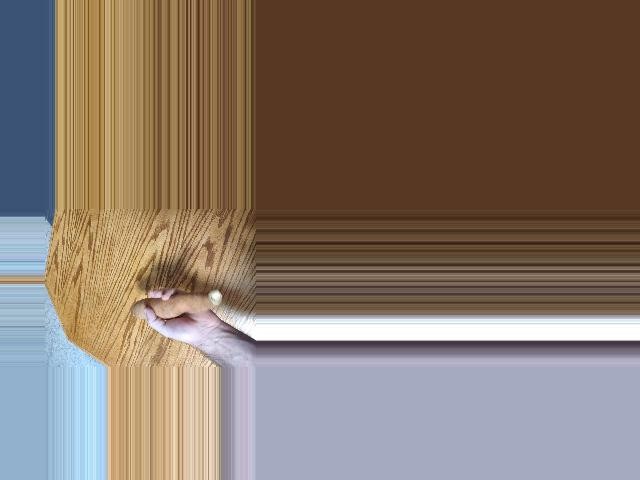sweet_potato: (124, 292, 224, 323)
